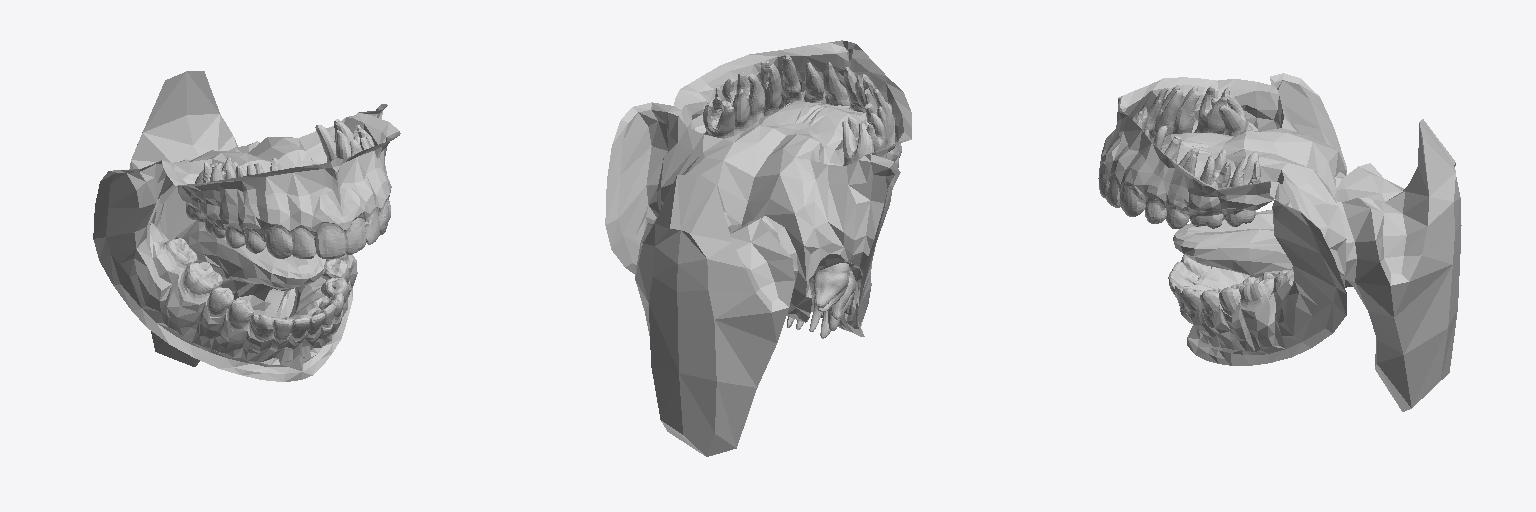
The model's file is mouth.obj.
The picture shows the model from 3 angles: view 1: azimuth 30°, elevation 25°; view 2: azimuth 150°, elevation 25°; view 3: azimuth 270°, elevation 25°; orthographic projection.
Visible parts, largest first — view 1: mouth, teeth, wet; view 2: mouth, teeth; view 3: mouth, teeth, wet.
Part boxes in pixels (x1,y1,x2,y2): mouth: (93,71,400,381); teeth: (164,119,390,339); wet: (160,197,388,340); mouth: (605,40,911,456); teeth: (703,55,901,338); mouth: (1100,73,1461,411); teeth: (1098,85,1293,314); wet: (1100,125,1293,319).
Size of the model in its own units: 0.1047 by 0.1146 by 0.1206.